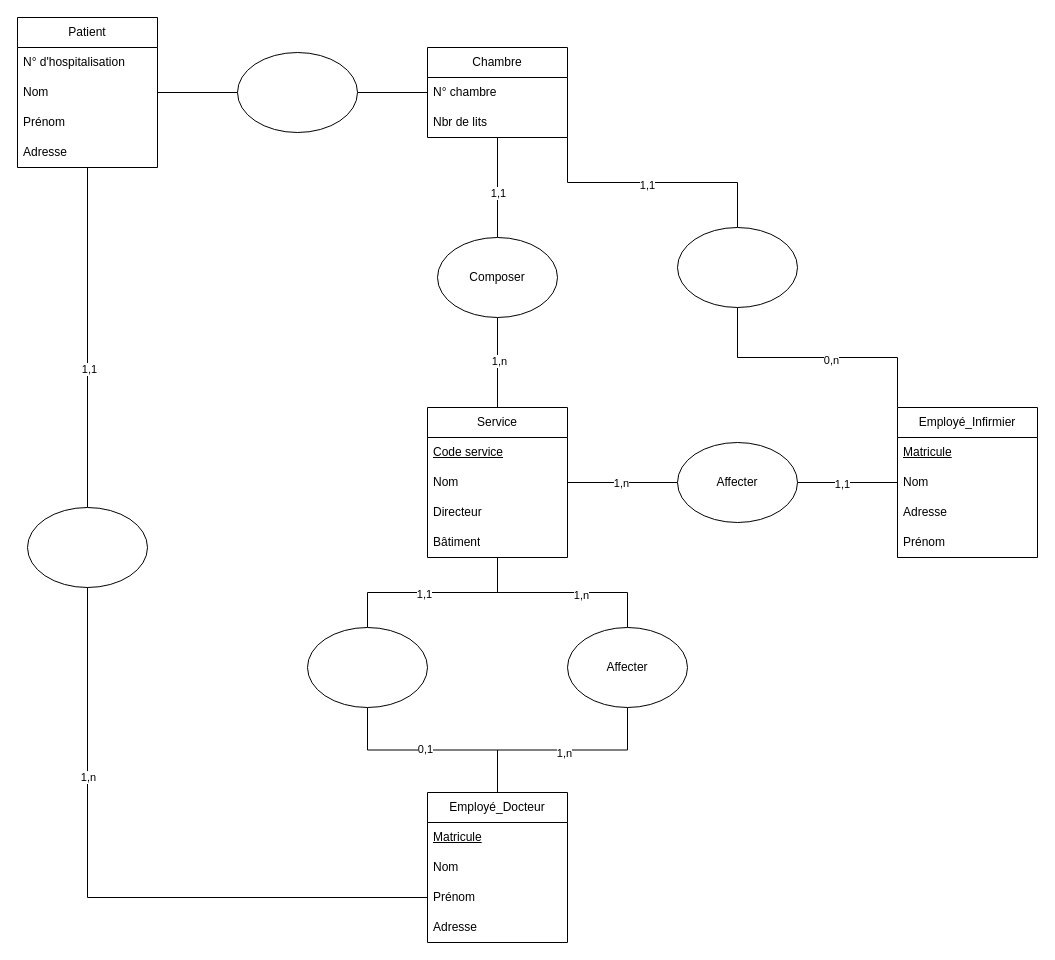
This 1055x960 diagram has some shape labels left out. Here are the shapes that lost their labels. From the top down, the centre of each, then its label:
[297,92]: Hospitaliser N° de lit
[737,267]: Est surveillant
[87,547]: Soigner
[367,667]: Est directeur
